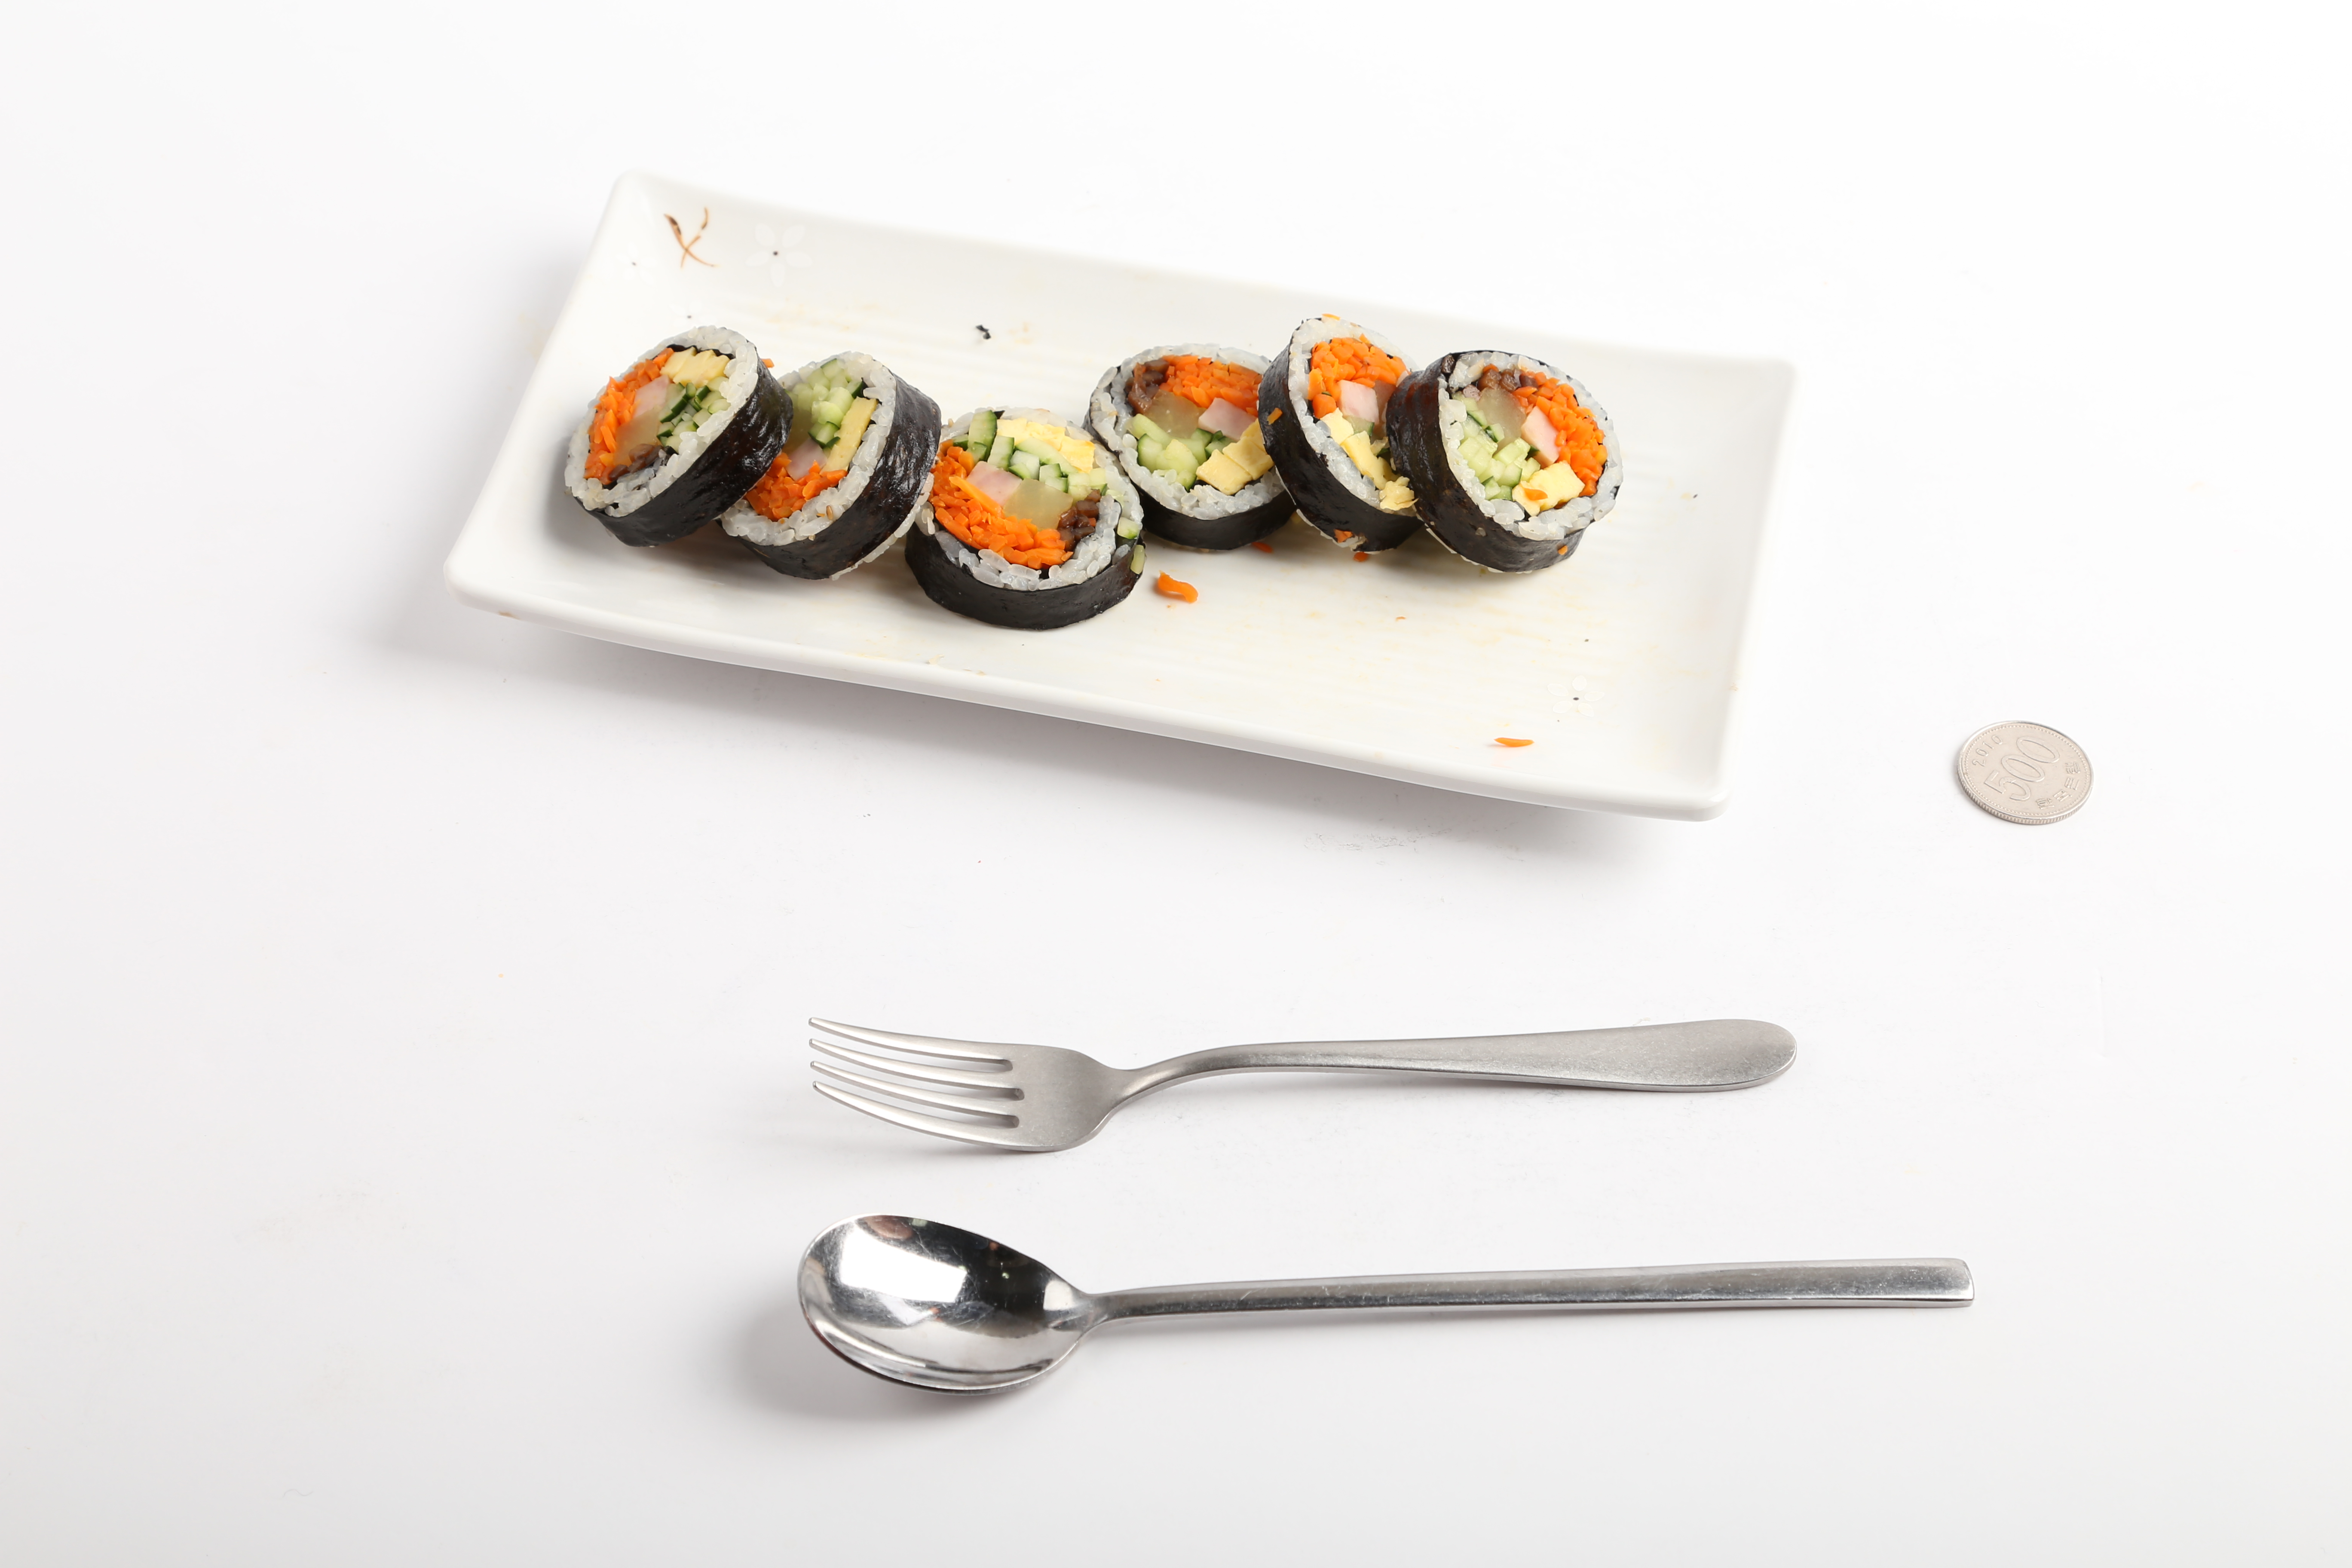dish: (441, 159, 1794, 821)
ref_coin: (1948, 709, 2098, 831)
ref_fork: (805, 1008, 1213, 1153)
ref_spoon: (793, 1202, 1195, 1398)
김밥: (558, 313, 1626, 630)
